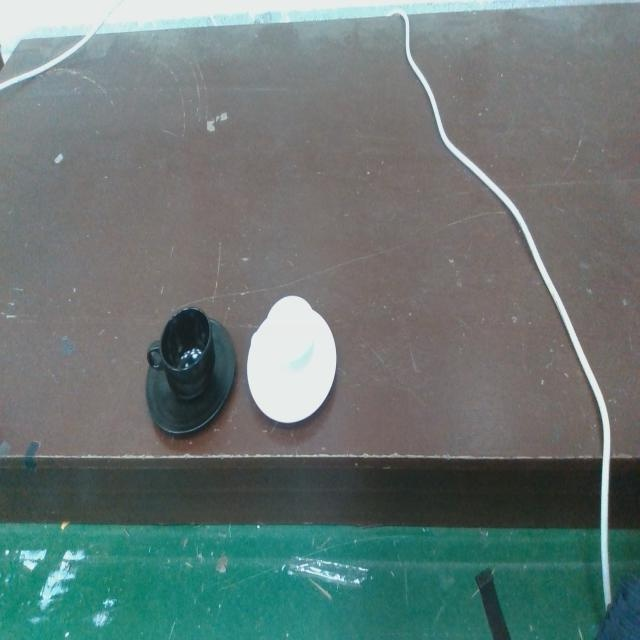black: (143, 303, 238, 440)
white: (244, 291, 338, 429)
